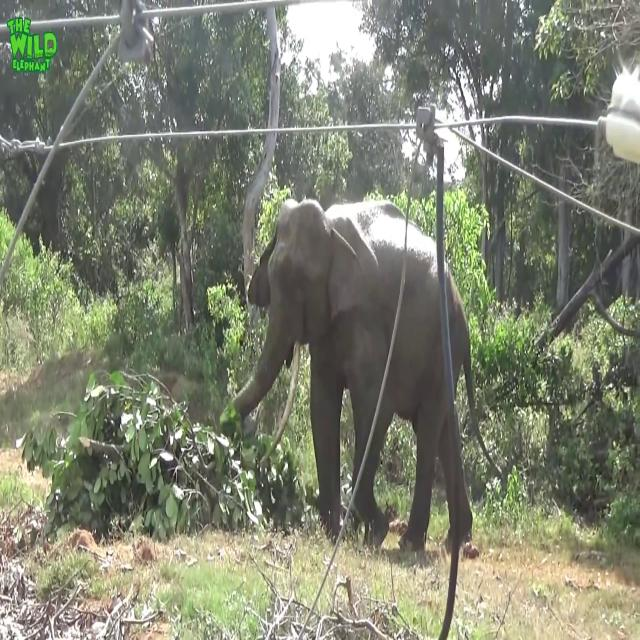Elephant: (226, 196, 499, 639)
